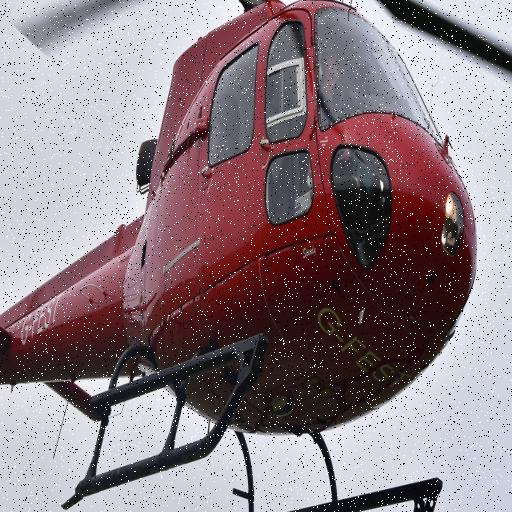helicopter: (1, 1, 508, 512)
